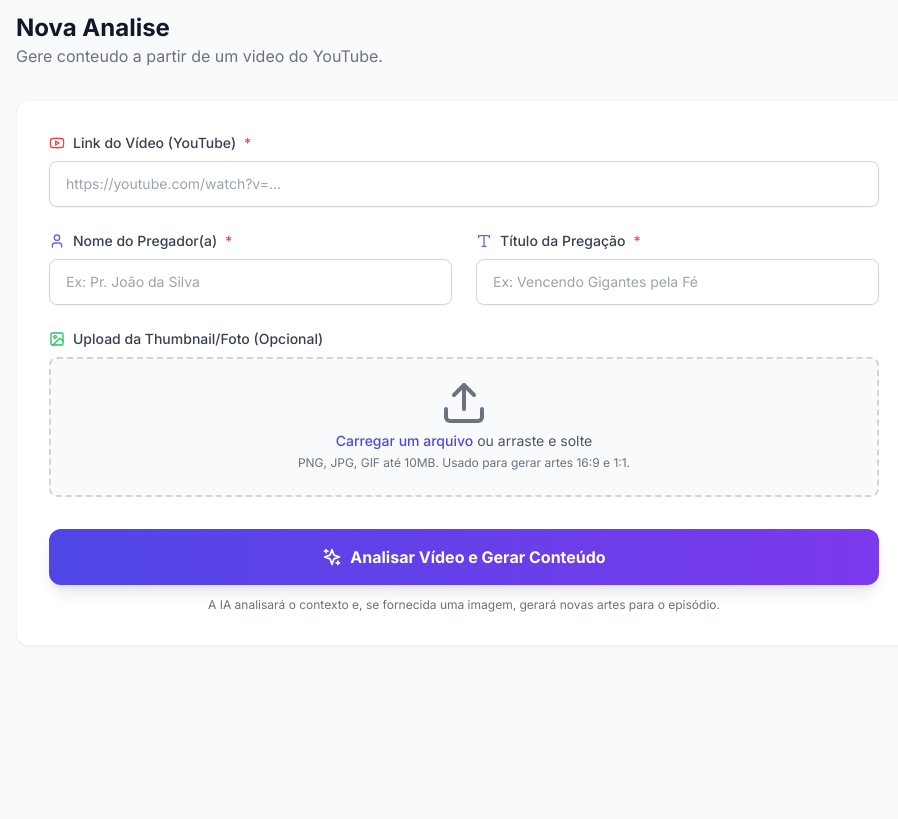
Test: NewEpisode - Retry › shows retry button when API fails
The width and height of the screenshot is (898, 819).
Type "https://youtube.com/watch?v=dQw4w9WgXcQ" into the field labelled "Link do Vídeo (YouTube) *".
click(464, 184); type("https://youtube.com/watch?v=dQw4w9WgXcQ")  # box x1=49 y1=161 x2=879 y2=207
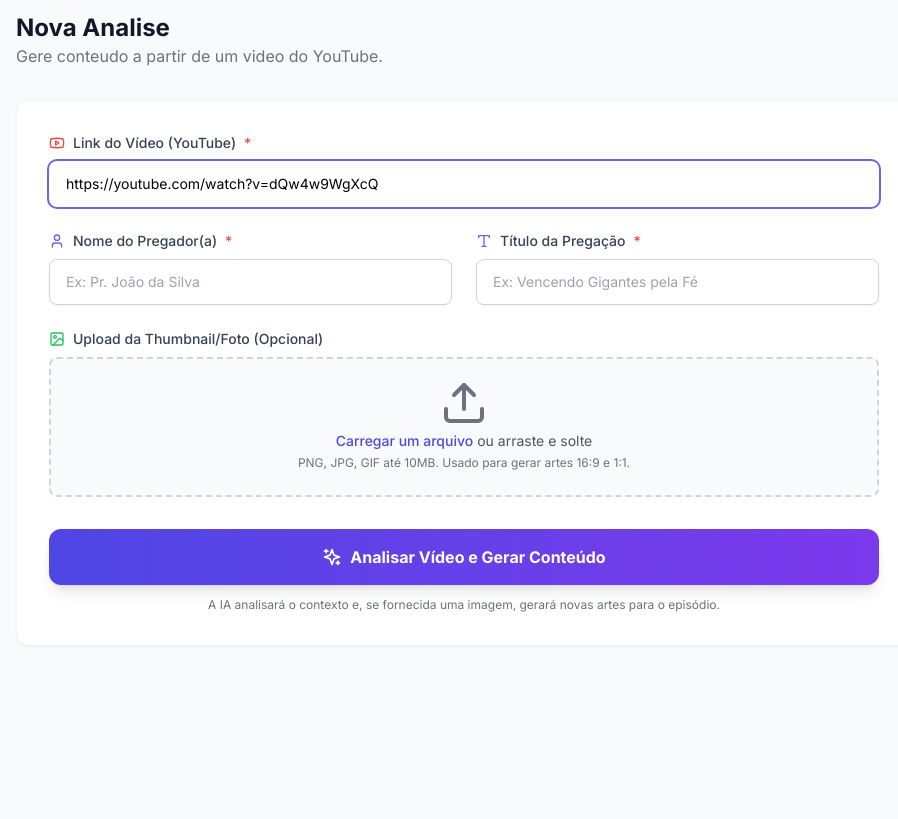
Type "Pr. Teste" into the field labelled "Nome do Pregador(a) *".
click(250, 282); type("Pr. Teste")  # box x1=49 y1=259 x2=452 y2=305
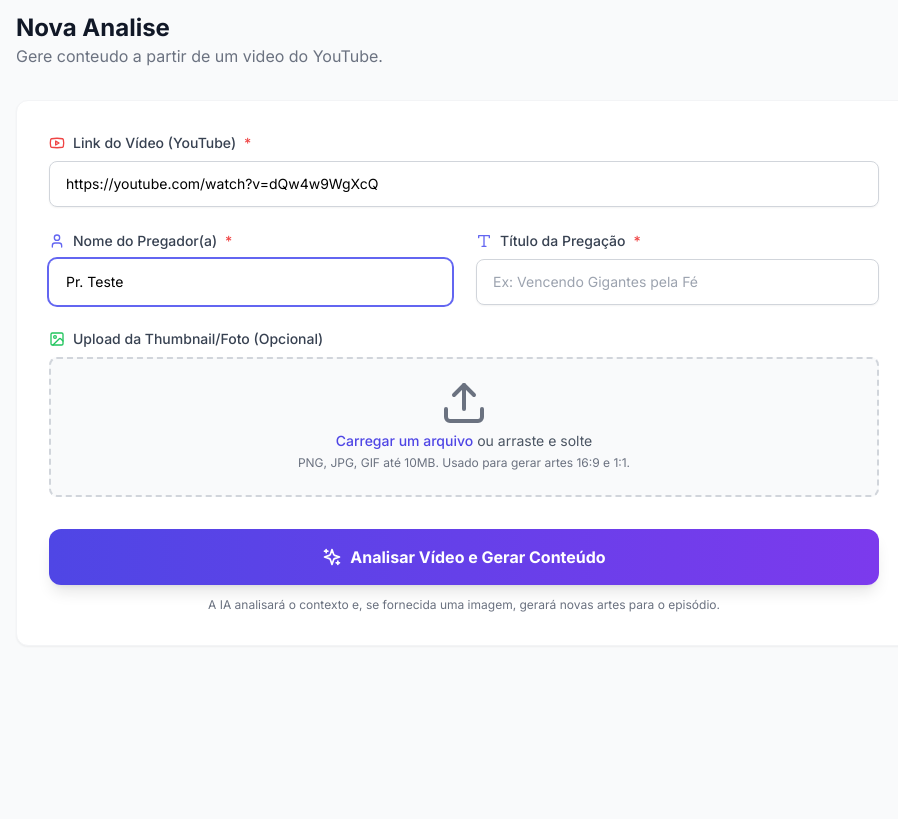
Type "Titulo Teste" into the field labelled "Título da Pregação *".
click(678, 282); type("Titulo Teste")  # box x1=476 y1=259 x2=879 y2=305
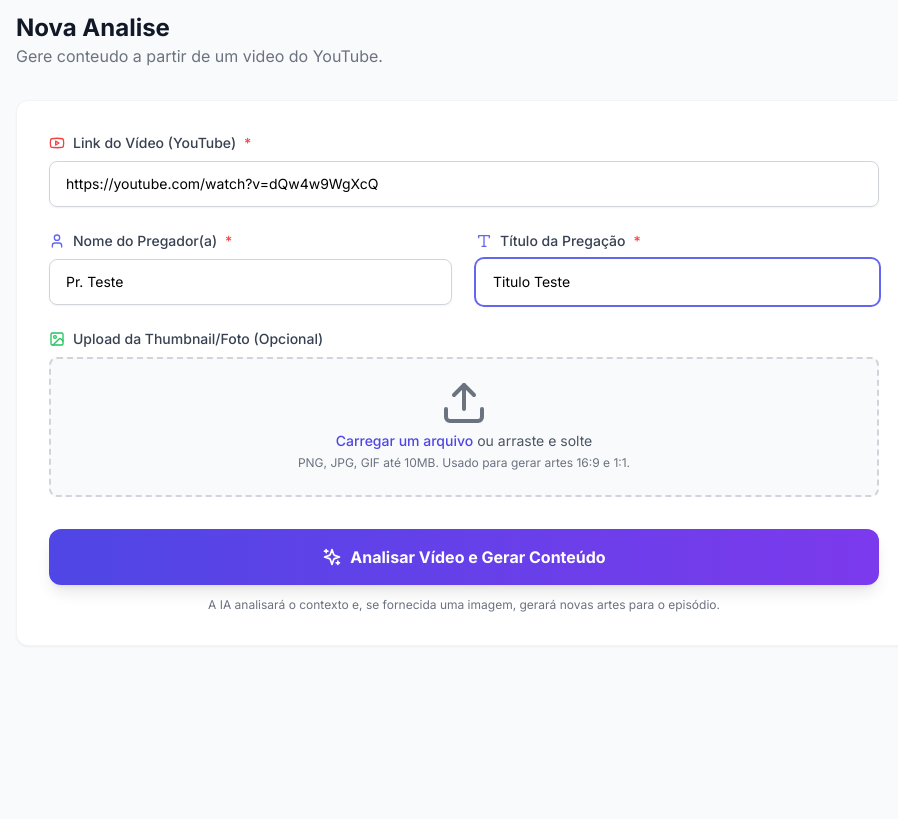
Click the button "Analisar Vídeo e Gerar Conteúdo".
click(464, 557)  # box x1=49 y1=529 x2=879 y2=585
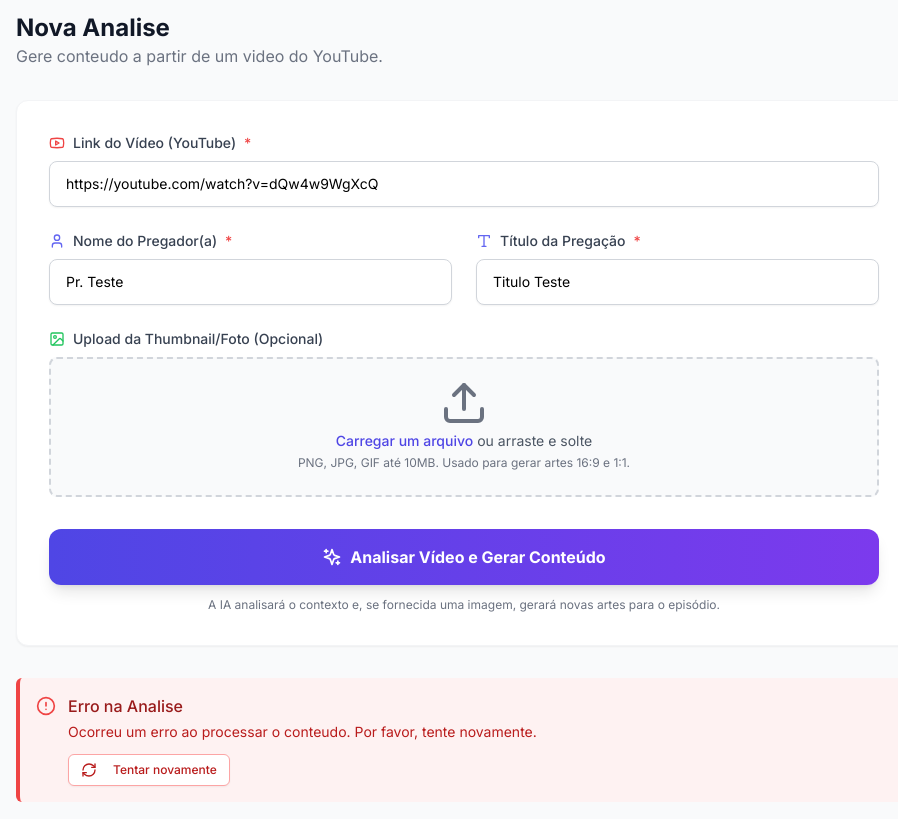
Expected: the button with test id "retry-button" is shown, x1=68 y1=754 x2=230 y2=786
Expected: the text "Ocorreu um erro" is shown, x1=68 y1=723 x2=537 y2=740
